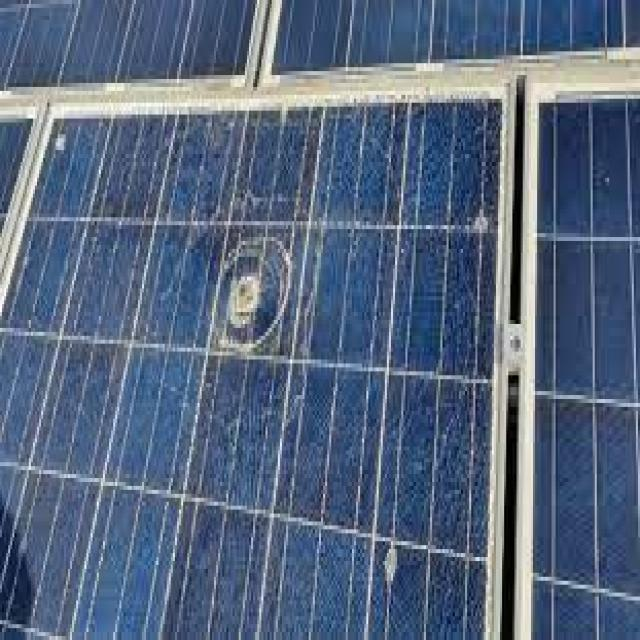faulty: (0, 93, 508, 640)
